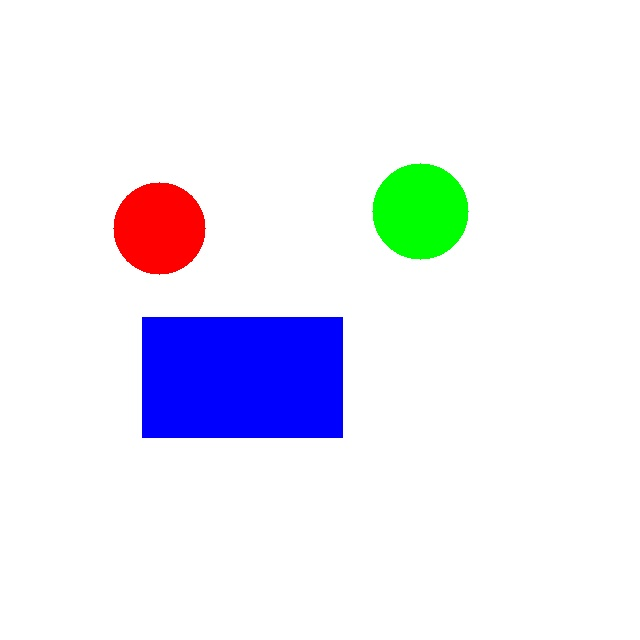cartao: (142, 317, 342, 437)
rosca_externa: (372, 163, 468, 259)
rosca_interna: (113, 182, 205, 274)
